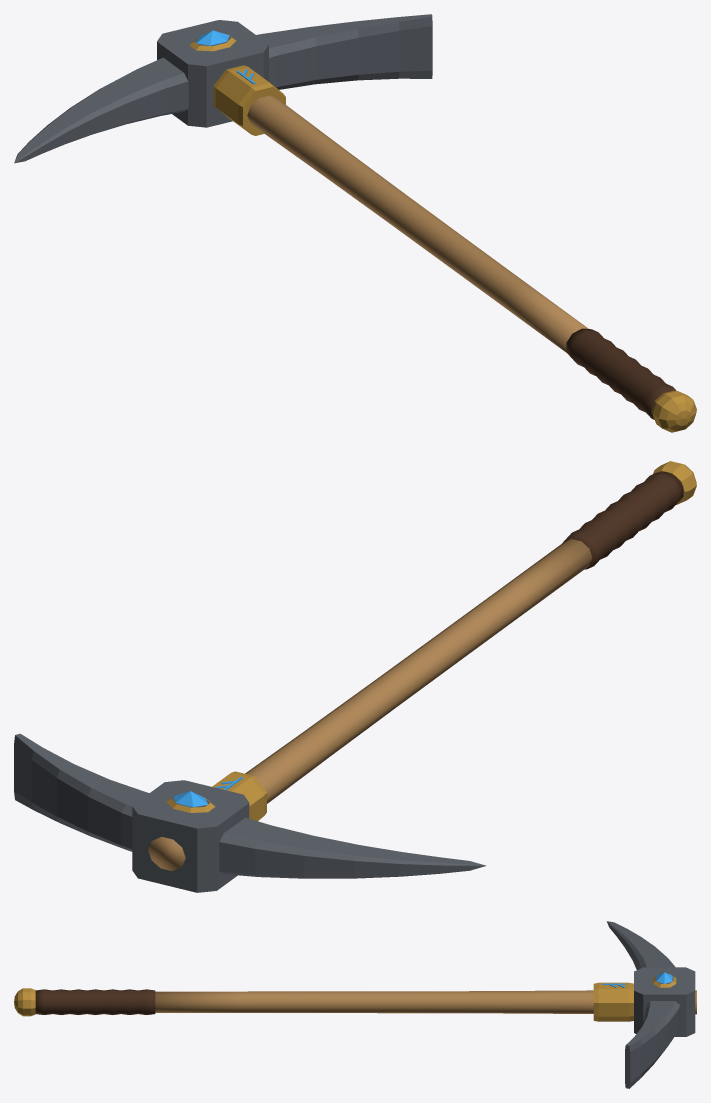
File: MiningPickaxe.fbx
The picture shows the model from 3 angles, top to bottom: view 1: azimuth 30°, elevation 25°; view 2: azimuth 150°, elevation 25°; view 3: azimuth 270°, elevation 25°; orthographic projection. The views are drawn at different scales.
Parts seen in each view (by area): view 1: Head, Haft, Boss, Wrap, Collar, ButtCap; view 2: Head, Haft, Boss, Wrap, Collar, ButtCap; view 3: Haft, Head, Wrap, Boss, Collar, ButtCap.
Boxes of the visible parts, x1,y1,x2,y2 form: Head: (14, 14, 432, 163); Haft: (247, 95, 588, 352); Boss: (157, 20, 268, 127); Wrap: (566, 328, 676, 419); Collar: (213, 65, 285, 135); ButtCap: (651, 390, 696, 432); Head: (14, 733, 486, 878); Haft: (148, 539, 592, 870); Boss: (132, 780, 249, 892); Wrap: (562, 472, 683, 569); Collar: (212, 771, 266, 821); ButtCap: (653, 461, 696, 504); Haft: (155, 990, 696, 1014); Head: (606, 921, 680, 1088); Wrap: (35, 989, 155, 1014); Boss: (634, 967, 695, 1036); Collar: (593, 982, 633, 1021); ButtCap: (14, 988, 35, 1016).
Bounding box in the file's own units: 0.4296 × 0.846 × 0.082.
